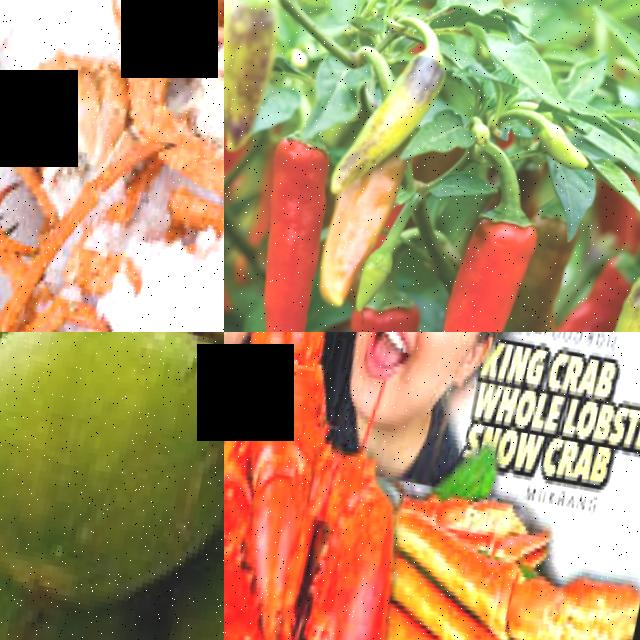chilli: (231, 124, 355, 332), (413, 179, 549, 332), (326, 285, 437, 332), (584, 248, 640, 332)
coconut: (0, 332, 224, 617)
crab: (368, 495, 617, 640), (101, 13, 224, 182), (12, 200, 130, 332), (0, 96, 32, 262)
